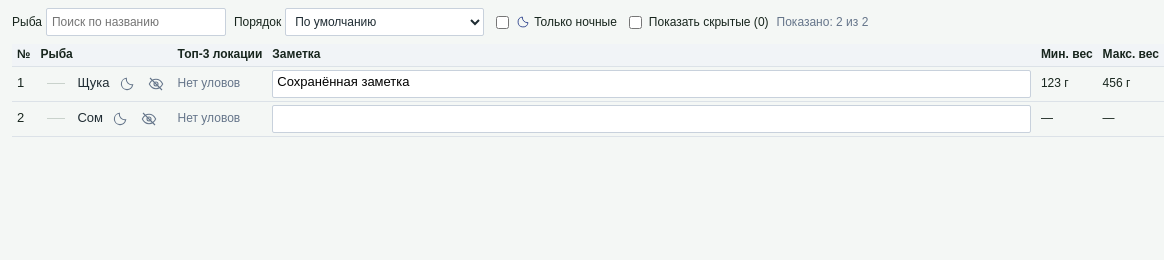
Test: failed visibility retains every draft, then save and hide can finish independently while filtered
This screenshot has width=1164, height=260.
Replace the text in the text box named "Заметка — Щука" with "Моя заметка" at (652, 84), box left=272, top=70, right=1031, bottom=98
Type "Соседняя заметка" into the text box named "Заметка — Сом".
click(652, 119); type("Соседняя заметка")  # box left=272, top=105, right=1031, bottom=133
Click the button named "Скрыть рыбу — Щука".
click(156, 84)  # box left=144, top=72, right=168, bottom=96
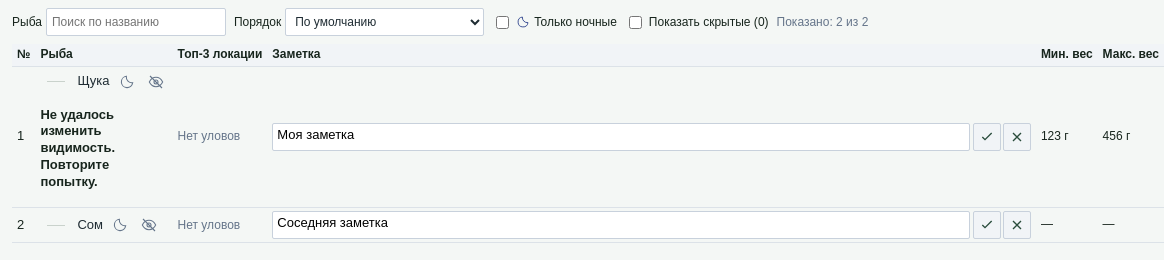
Expected: the message "Не удалось изменить видимость. Повторите попытку." is shown, left=40, top=107, right=115, bottom=189
Click the button named "Сохранить заметку — Щука".
click(987, 137)  # box left=973, top=123, right=1001, bottom=151
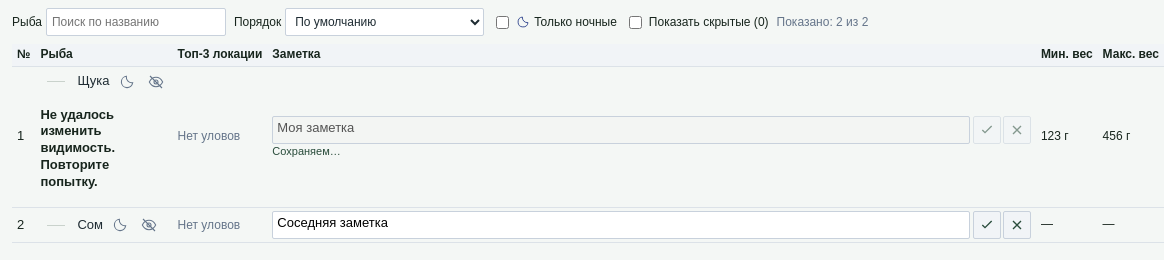
Click the button named "Скрыть рыбу — Щука".
click(156, 82)  # box left=144, top=70, right=168, bottom=94
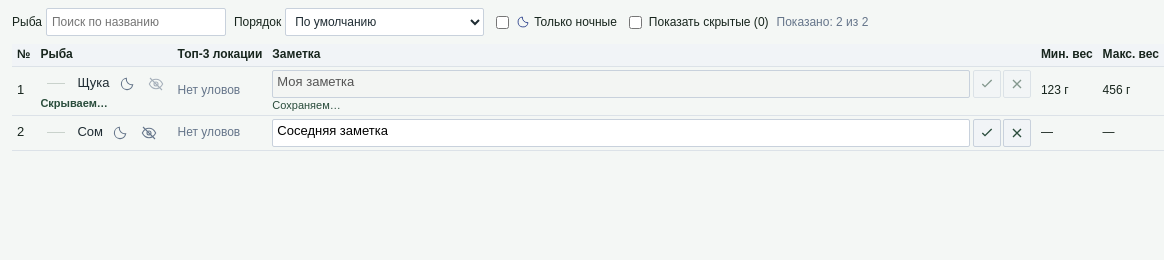
Expected: the button named "Скрыть рыбу — Щука" is disabled, left=144, top=72, right=168, bottom=96
Type "Сом" into the search field.
click(136, 22); type("Сом")  # box left=46, top=8, right=226, bottom=36
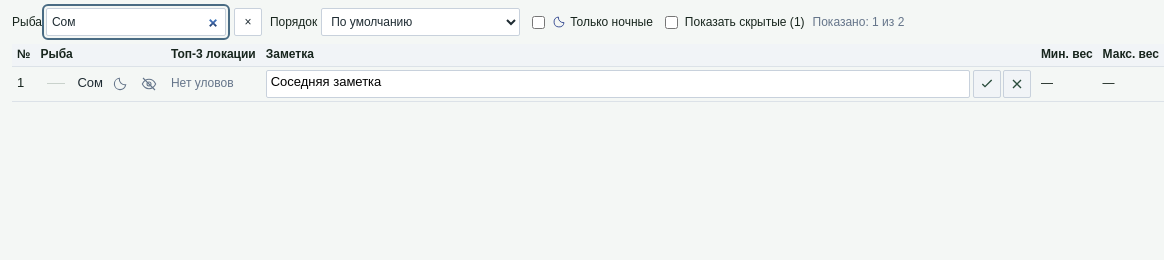
Click the button named "Очистить поиск".
click(248, 22)  # box left=234, top=8, right=262, bottom=36
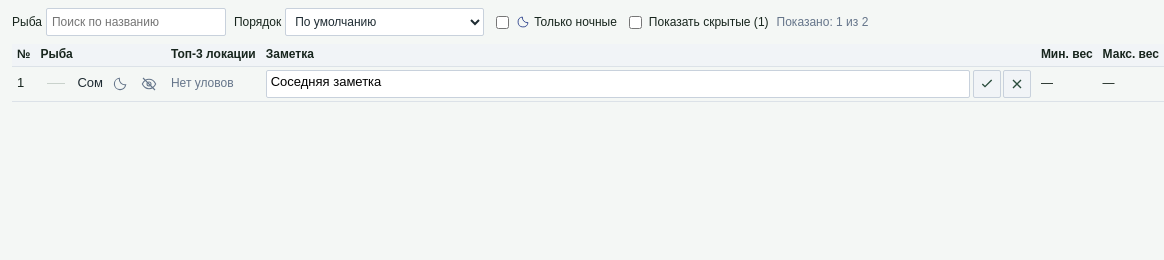
Click the checkbox labelled "Показать скрытые (1)".
click(635, 22)  # box left=629, top=16, right=642, bottom=28
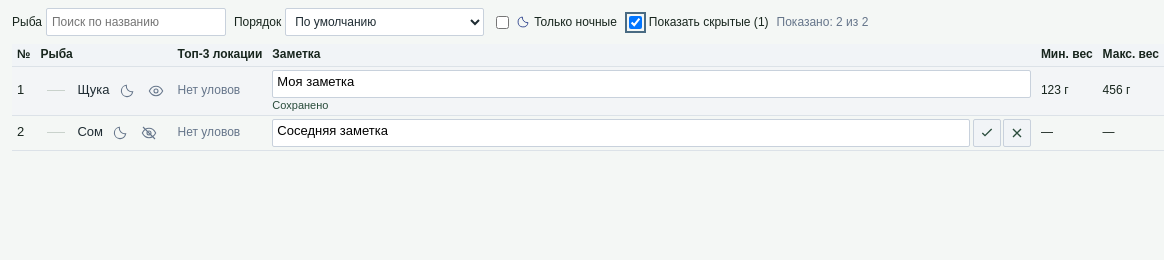
Expected: the text "Сохранено" is shown, left=272, top=99, right=328, bottom=111
